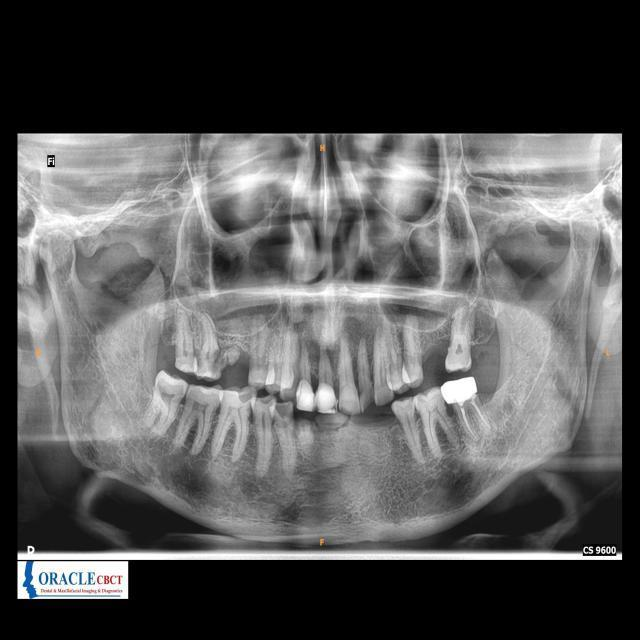dentin-curugu: (207, 349, 226, 376), (274, 402, 292, 420), (236, 387, 252, 404), (280, 384, 296, 400), (261, 395, 275, 408)
dolgu: (280, 364, 296, 388), (264, 366, 278, 385)
kanal-tedavisi: (456, 403, 486, 434)
kaplama: (442, 378, 478, 406), (298, 380, 316, 414), (319, 384, 337, 414)
